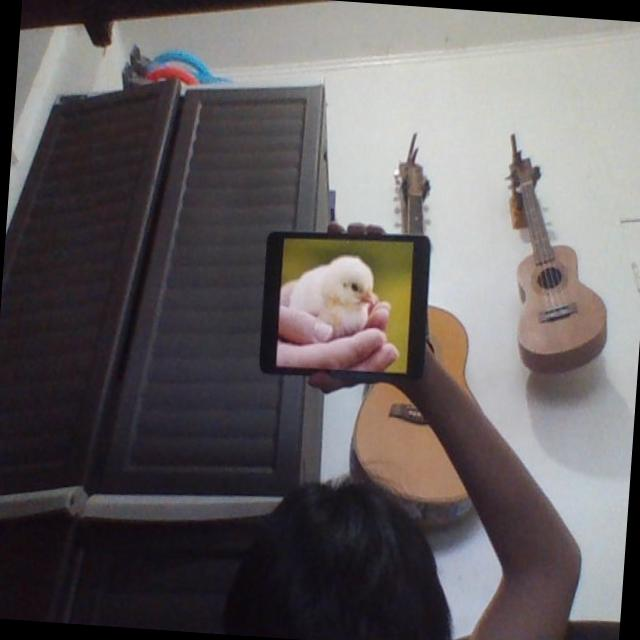Healthy: (288, 250, 378, 340)
